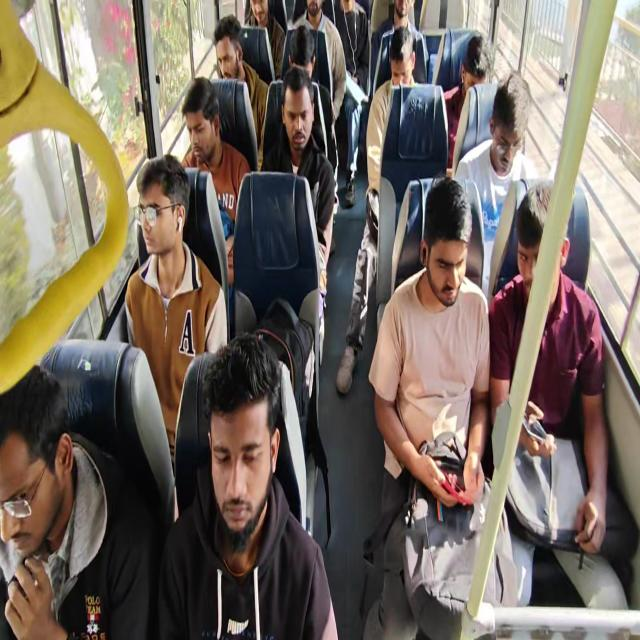person: (0, 371, 78, 569), (207, 365, 272, 542), (130, 165, 185, 255), (425, 194, 469, 303), (169, 86, 218, 162), (512, 215, 560, 290), (498, 83, 528, 177), (208, 21, 246, 83), (461, 36, 494, 94), (286, 84, 314, 149), (390, 45, 417, 92), (286, 46, 318, 80), (294, 0, 329, 30), (390, 0, 417, 24), (245, 0, 270, 24)
